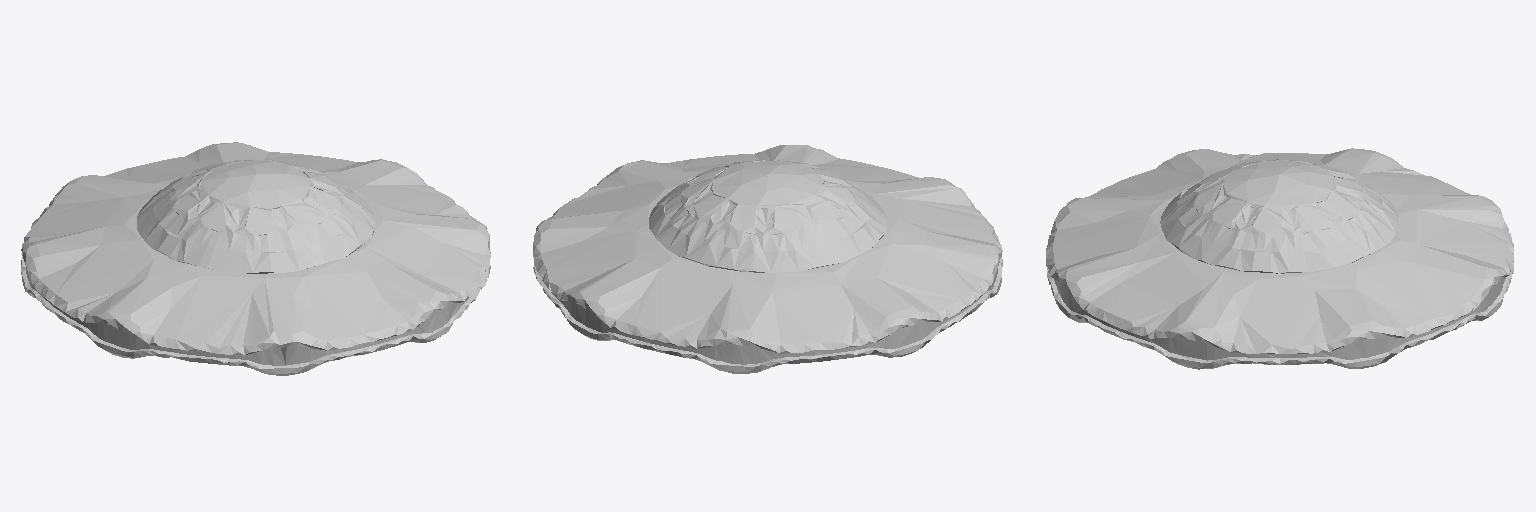
File: frame_065.obj
The picture shows the model from 3 angles: view 1: azimuth 30°, elevation 25°; view 2: azimuth 150°, elevation 25°; view 3: azimuth 270°, elevation 25°; orthographic projection.
Parts seen in each view (by area): view 1: 13884_UFO_Saucer_v1_l2; view 2: 13884_UFO_Saucer_v1_l2; view 3: 13884_UFO_Saucer_v1_l2.
Part boxes in pixels (x1,y1,x2,y2): 13884_UFO_Saucer_v1_l2: (21, 142, 490, 375); 13884_UFO_Saucer_v1_l2: (533, 145, 1002, 373); 13884_UFO_Saucer_v1_l2: (1046, 148, 1513, 369).
Bounding box in the file's own units: 12.69 × 4.88 × 12.7.